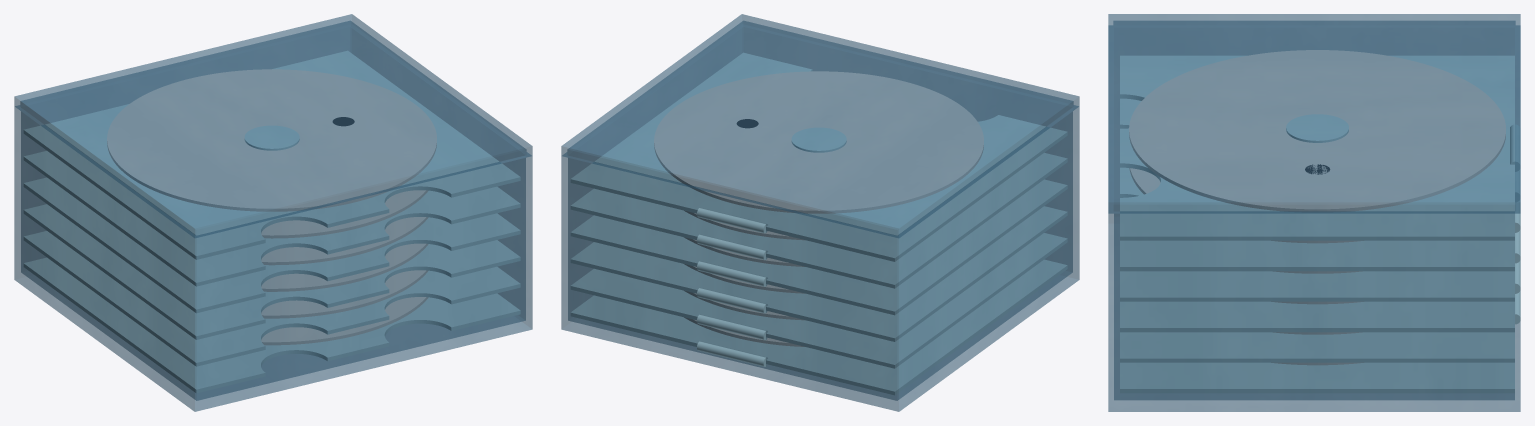
Rendered from Music_CD_case__0006.glb.
The picture shows the model from 3 angles, left to right: view 1: azimuth 30°, elevation 25°; view 2: azimuth 150°, elevation 25°; view 3: azimuth 270°, elevation 25°; orthographic projection. The views are drawn at different scales.
Visible parts, largest first — view 1: base::base_frame, lid::lid_shell, disc_5::disc_body_5, leaf_5::leaf_plate_5, leaf_1::leaf_plate_1, leaf_4::leaf_plate_4, leaf_2::leaf_plate_2, leaf_0::leaf_plate_0, leaf_3::leaf_plate_3, disc_1::disc_body_1, disc_2::disc_body_2, disc_0::disc_body_0 (+2 smaller); view 2: base::base_frame, lid::lid_shell, disc_5::disc_body_5, leaf_5::leaf_plate_5, leaf_3::leaf_plate_3, leaf_4::leaf_plate_4, leaf_2::leaf_plate_2, leaf_0::leaf_plate_0, leaf_1::leaf_plate_1; view 3: base::base_frame, lid::lid_shell, disc_5::disc_body_5, leaf_5::leaf_plate_5, leaf_4::leaf_plate_4, leaf_3::leaf_plate_3, leaf_1::leaf_plate_1, leaf_2::leaf_plate_2, leaf_0::leaf_plate_0, disc_4::disc_body_4.
Boxes of the visible parts, x1,y1,x2,y2 form: base::base_frame: [14, 27, 532, 411]; lid::lid_shell: [14, 14, 532, 238]; disc_5::disc_body_5: [107, 69, 436, 211]; leaf_5::leaf_plate_5: [24, 51, 520, 259]; leaf_1::leaf_plate_1: [23, 231, 520, 366]; leaf_4::leaf_plate_4: [23, 151, 520, 286]; leaf_2::leaf_plate_2: [24, 204, 520, 339]; leaf_0::leaf_plate_0: [23, 258, 520, 392]; leaf_3::leaf_plate_3: [23, 177, 520, 312]; disc_1::disc_body_1: [261, 270, 427, 318]; disc_2::disc_body_2: [261, 243, 428, 291]; disc_0::disc_body_0: [261, 297, 428, 344]; base::base_frame: [561, 27, 1079, 411]; lid::lid_shell: [561, 14, 1079, 238]; disc_5::disc_body_5: [654, 71, 983, 213]; leaf_5::leaf_plate_5: [571, 53, 1067, 261]; leaf_3::leaf_plate_3: [571, 179, 1067, 314]; leaf_4::leaf_plate_4: [571, 153, 1067, 288]; leaf_2::leaf_plate_2: [571, 206, 1067, 341]; leaf_0::leaf_plate_0: [571, 260, 1067, 394]; leaf_1::leaf_plate_1: [571, 233, 1067, 368]; base::base_frame: [1108, 25, 1520, 411]; lid::lid_shell: [1108, 14, 1520, 213]; disc_5::disc_body_5: [1129, 50, 1505, 211]; leaf_5::leaf_plate_5: [1120, 56, 1520, 240]; leaf_4::leaf_plate_4: [1120, 99, 1520, 271]; leaf_3::leaf_plate_3: [1120, 200, 1520, 301]; leaf_1::leaf_plate_1: [1120, 260, 1520, 362]; leaf_2::leaf_plate_2: [1120, 230, 1520, 332]; leaf_0::leaf_plate_0: [1120, 291, 1520, 393]; disc_4::disc_body_4: [1129, 168, 1363, 243].
Size of the model in its own units: 0.1418 by 0.0736 by 0.1313.
Materials: 9 (1 with a texture image).
